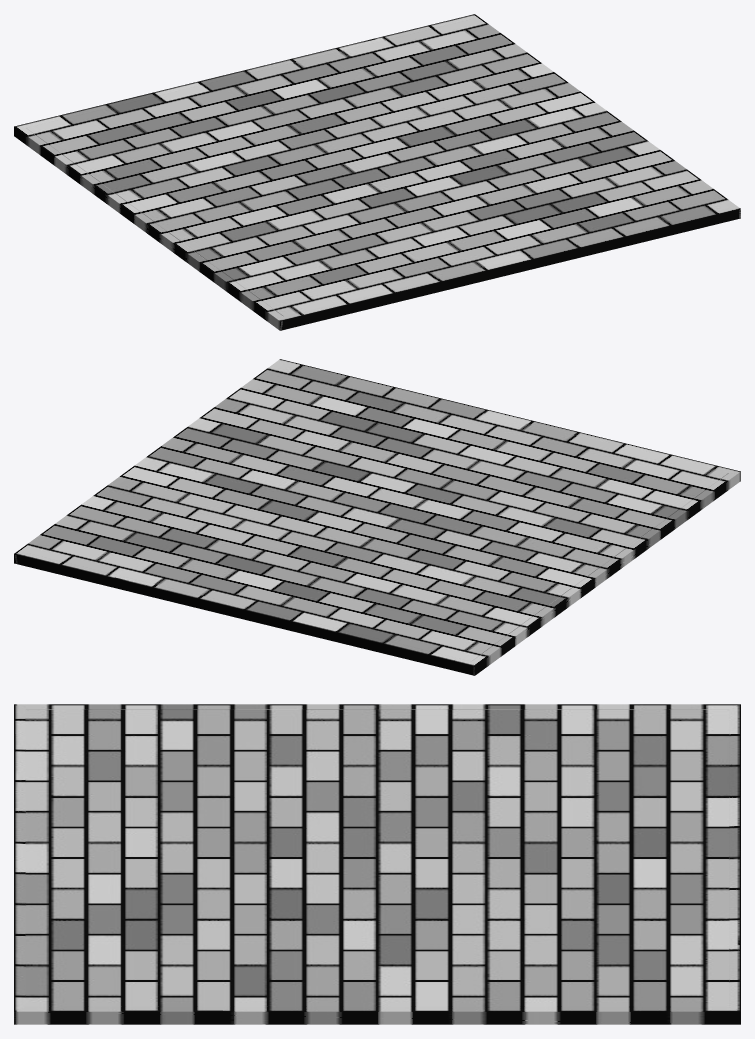
The model's file is floor_tile.fbx.
The picture shows the model from 3 angles, top to bottom: view 1: azimuth 30°, elevation 25°; view 2: azimuth 150°, elevation 25°; view 3: azimuth 270°, elevation 25°; orthographic projection. The views are drawn at different scales.
Parts seen in each view (by area): view 1: Cube; view 2: Cube; view 3: Cube.
Boxes of the visible parts, x1,y1,x2,y2 form: Cube: (14,14,740,330); Cube: (14,359,740,675); Cube: (14,704,740,1024).
Size of the model in its own units: 1323 by 26.35 by 1323.
1 material, 1 textured.
